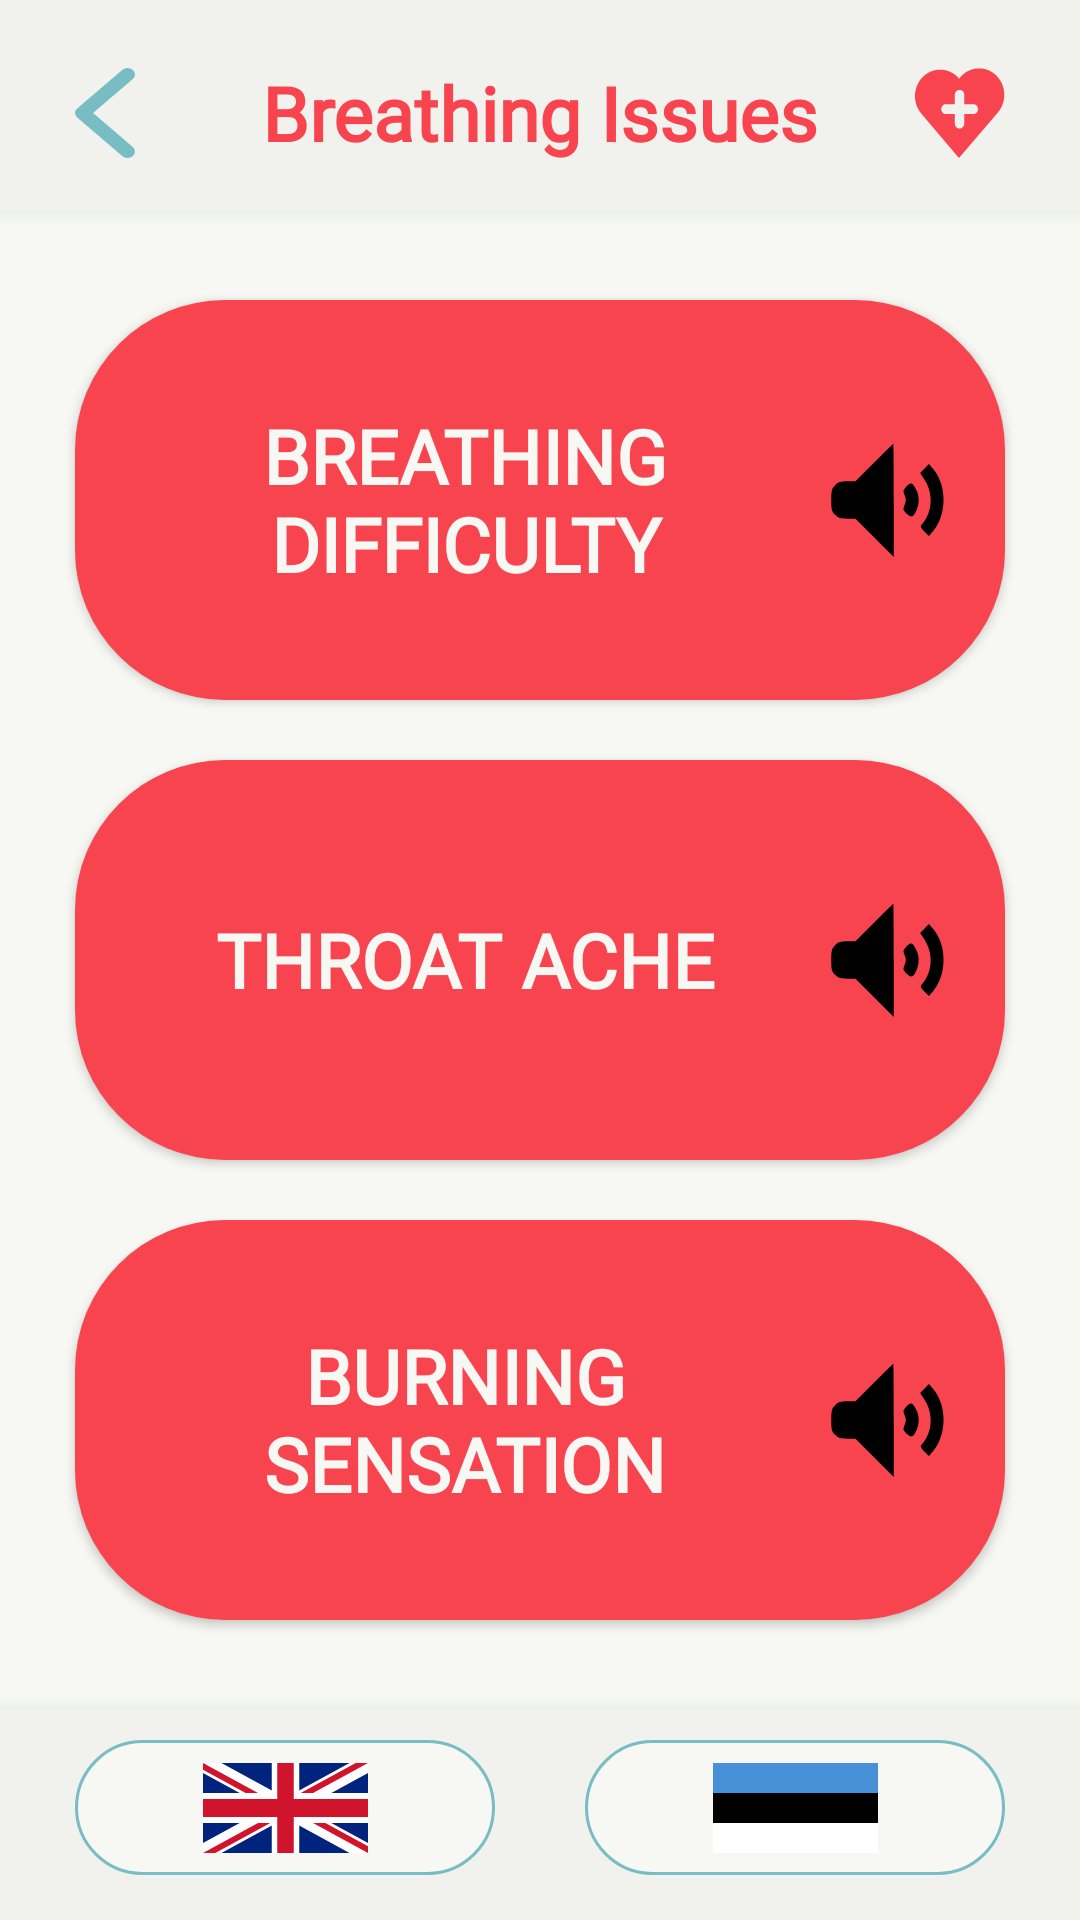

Icon bounding boxes for this 1080×1920 phone screenshot, format (x1, y1, x2, y2):
arrow back: (75, 68, 135, 158)
